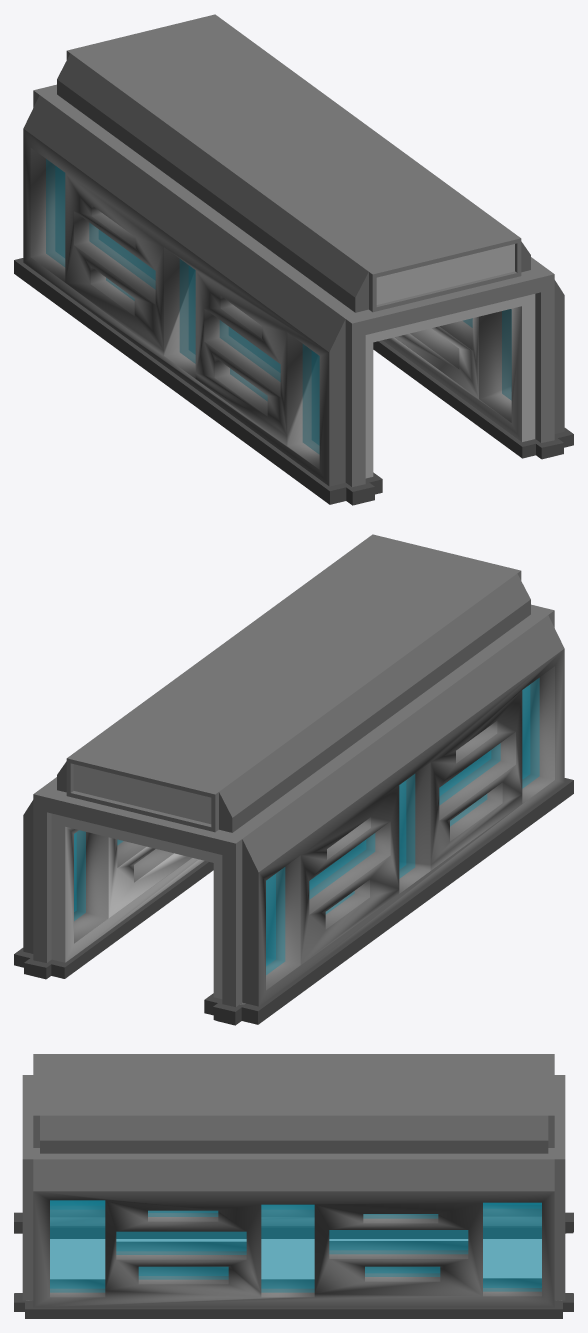
Rendered from Hallway.fbx.
The picture shows the model from 3 angles, top to bottom: view 1: azimuth 30°, elevation 25°; view 2: azimuth 150°, elevation 25°; view 3: azimuth 270°, elevation 25°; orthographic projection. The views are drawn at different scales.
Parts seen in each view (by area): view 1: Gate; view 2: Gate; view 3: Gate.
Part boxes in pixels (x1,y1,x2,y2): Gate: (14,14,573,505); Gate: (14,534,573,1025); Gate: (14,1054,573,1318).
Size of the model in its own units: 1507 by 1268 by 3514.
